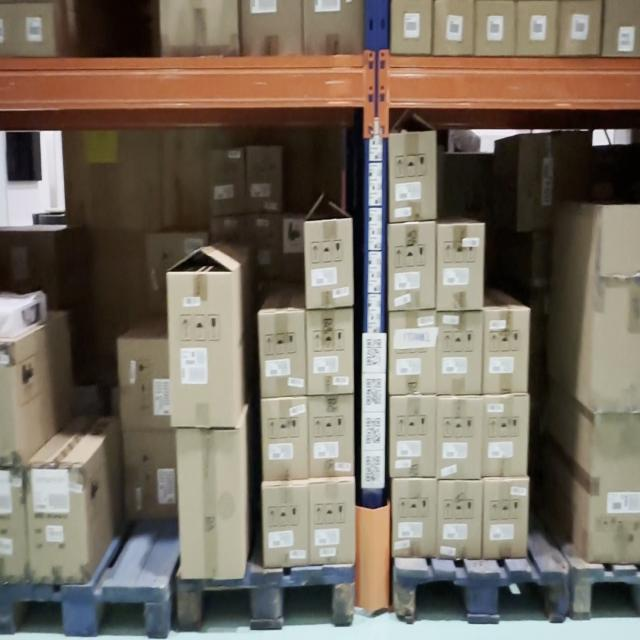box: (172, 272, 235, 426), (180, 430, 243, 579), (29, 472, 83, 580), (124, 431, 177, 515), (120, 343, 171, 426), (390, 223, 435, 310), (306, 225, 353, 306), (309, 310, 353, 395), (390, 138, 436, 218), (436, 312, 482, 392), (482, 396, 528, 476), (262, 402, 308, 480), (265, 486, 309, 567), (260, 315, 305, 394), (310, 395, 353, 477), (390, 314, 434, 394), (439, 225, 481, 308), (485, 309, 526, 392), (310, 486, 354, 562), (484, 480, 526, 558), (437, 399, 479, 476), (391, 399, 434, 474), (438, 482, 482, 555), (394, 479, 434, 555), (248, 149, 281, 211), (212, 154, 245, 210)
